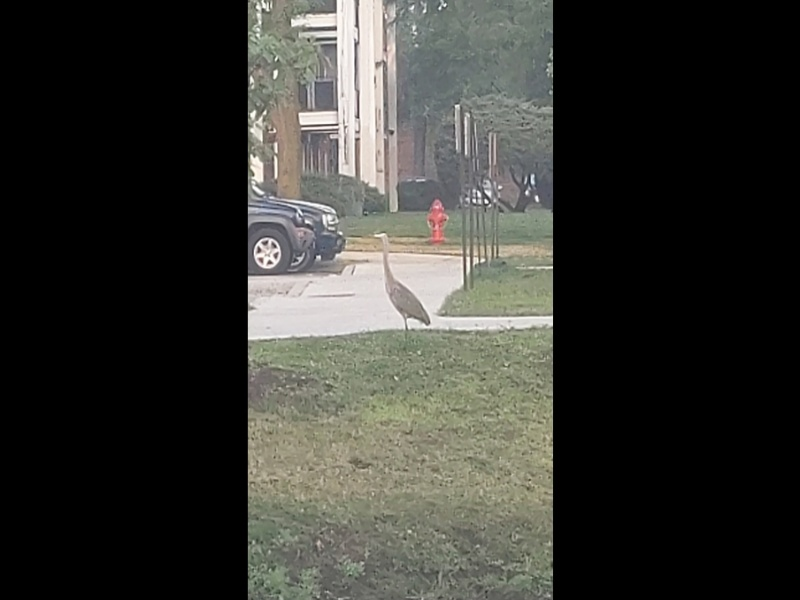heron: (372, 232, 433, 342)
